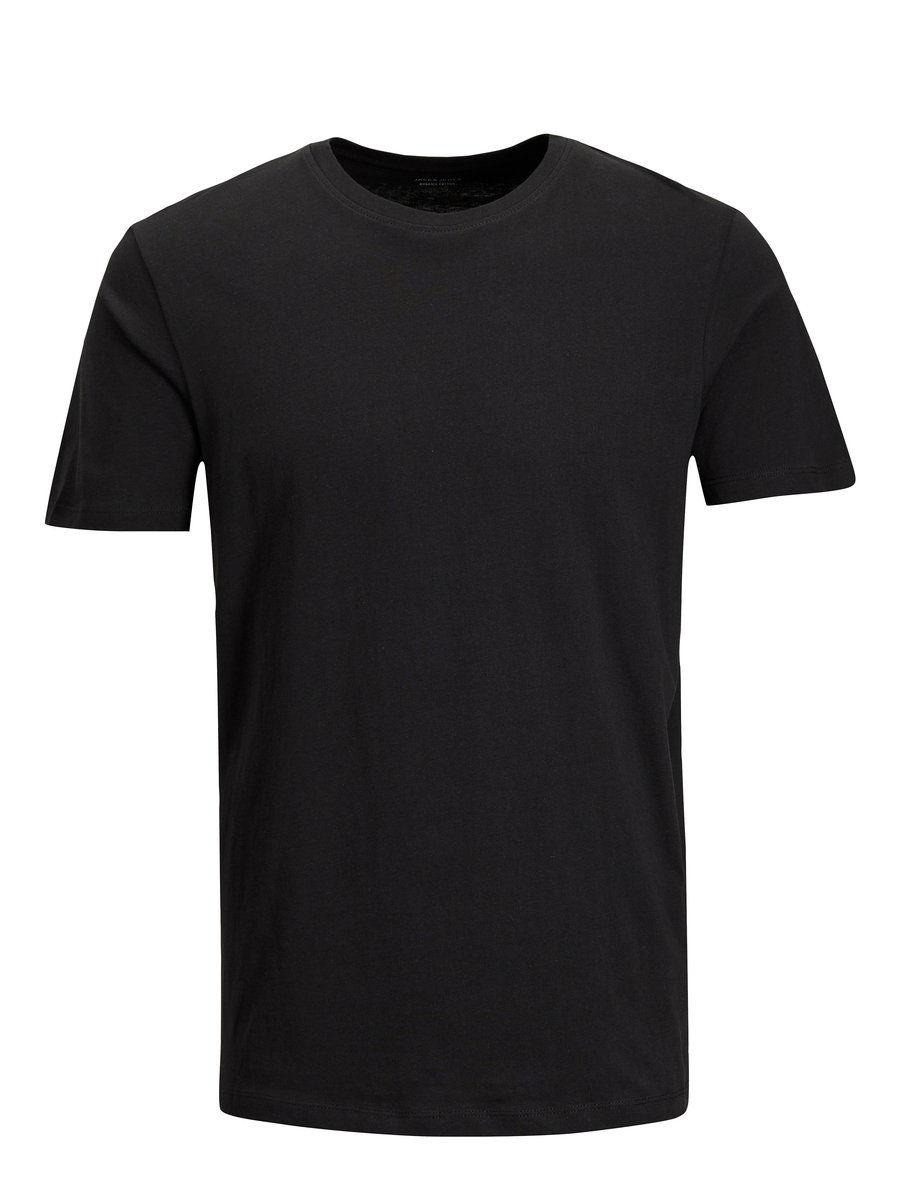teeshirt: (18, 133, 862, 1167)
